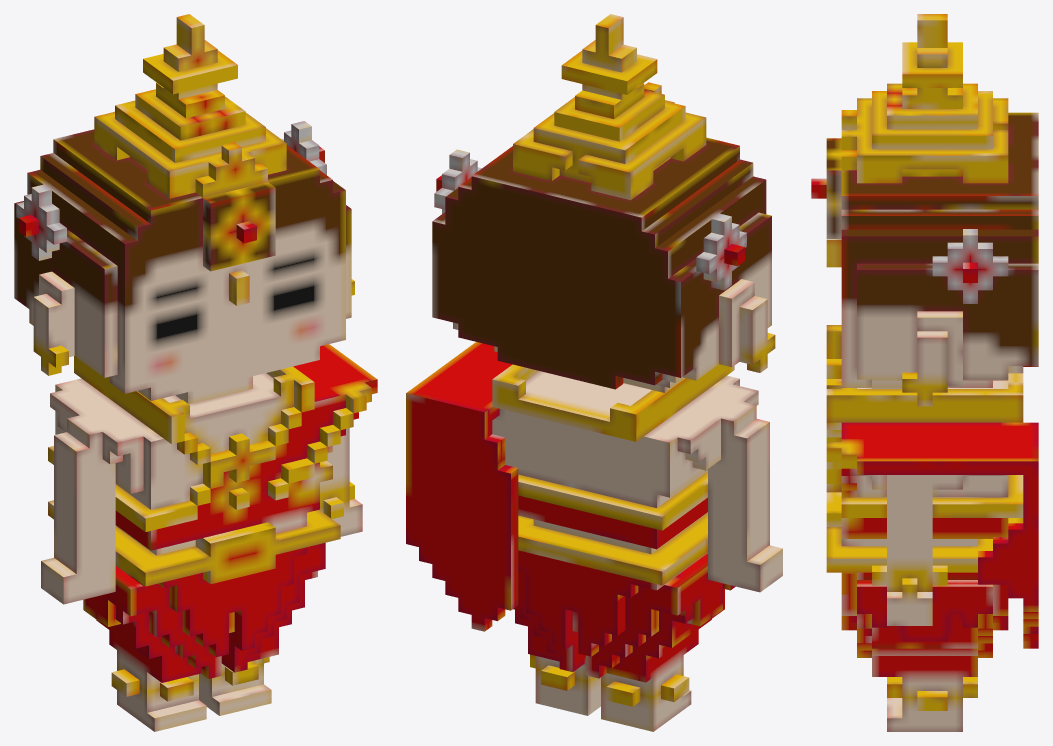
The model's file is Kuman Tong_3.fbx.
The picture shows the model from 3 angles, left to right: view 1: azimuth 30°, elevation 25°; view 2: azimuth 150°, elevation 25°; view 3: azimuth 270°, elevation 25°; orthographic projection.
Visible parts, largest first — view 1: Guman Tong_3.001; view 2: Guman Tong_3.001; view 3: Guman Tong_3.001.
Part boxes in pixels (box(x1,y1,x2,y2)): Guman Tong_3.001: box(14, 14, 377, 731); Guman Tong_3.001: box(406, 14, 782, 731); Guman Tong_3.001: box(811, 14, 1038, 731).
Bounding box in the file's own units: 2.3 × 5 × 1.5.
1 material, 1 textured.
